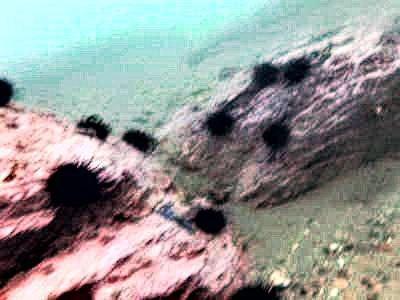urchin: (44, 155, 110, 203), (225, 274, 277, 296), (203, 107, 237, 135), (192, 206, 225, 234), (262, 119, 290, 149), (120, 127, 152, 153), (284, 57, 312, 84), (82, 114, 109, 140), (254, 59, 279, 84), (0, 73, 18, 107)
